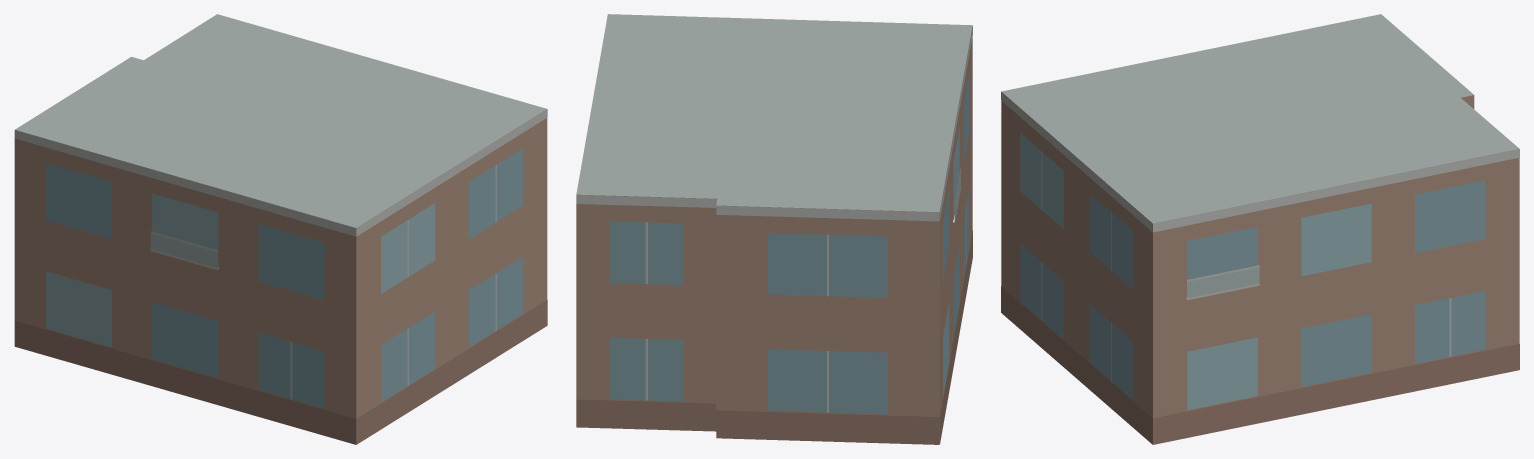
Rendered from survey-upis-32827773.glb.
3 views of the same model, side by side, from view 1: azimuth 30°, elevation 25°; view 2: azimuth 150°, elevation 25°; view 3: azimuth 270°, elevation 25° (orthographic). The views are drawn at different scales.
Visible parts, largest first — view 1: survey-upis-32827773.tmp; view 2: survey-upis-32827773.tmp; view 3: survey-upis-32827773.tmp.
Part boxes in pixels (<box>): survey-upis-32827773.tmp: <box>14,14,547,444</box>; survey-upis-32827773.tmp: <box>576,14,972,444</box>; survey-upis-32827773.tmp: <box>1001,14,1519,444</box>.
Bounding box in the file's own units: 12.41 × 6.1 × 12.97.
